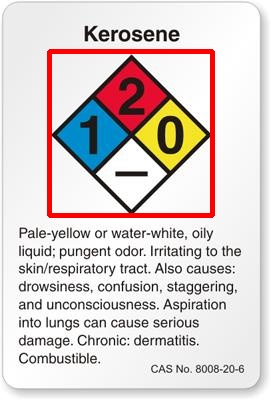nfpa: (49, 51, 212, 215)
